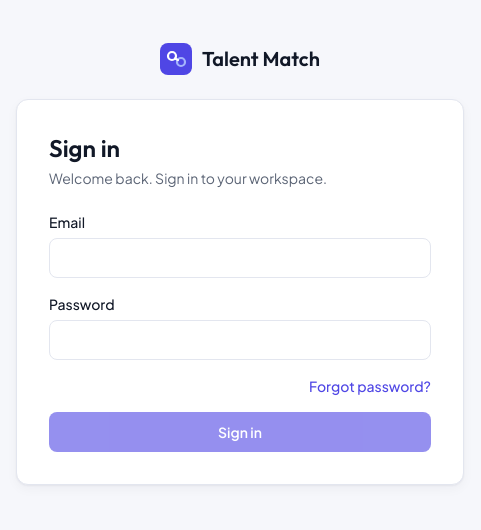
Scenario: sign in › shows the server's error message on bad credentials
Type "sarah@anthropic.com" into the field labelled "Email" at (240, 258), box [49,238,431,278]
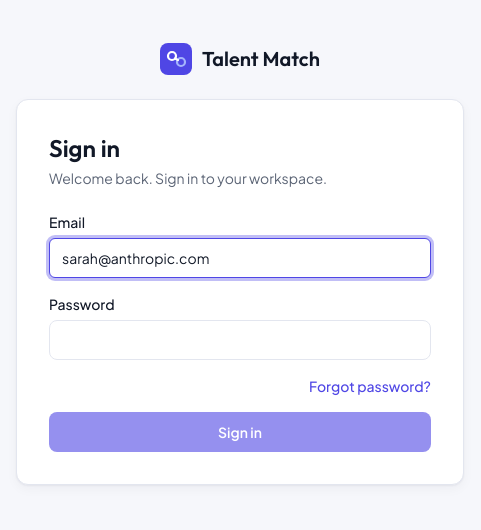
Type "wrong" into the password field labelled "Password" at (240, 340), box [49,320,431,360]
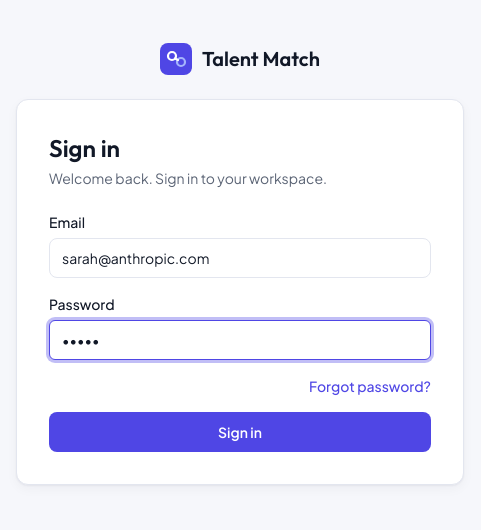
Click the button "Sign in" at (240, 432), box [49,412,431,452]
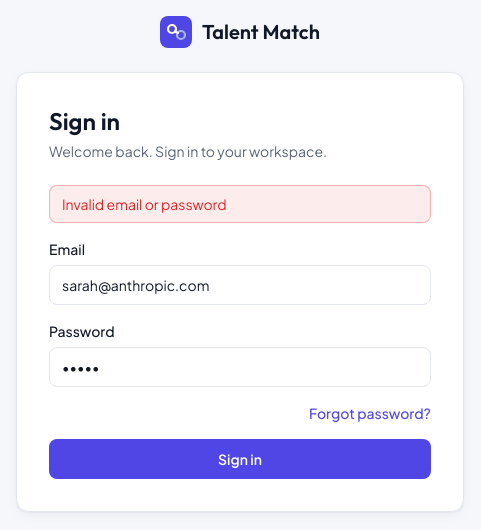
Now the message reads "Invalid email or password", box [62,195,227,213]
